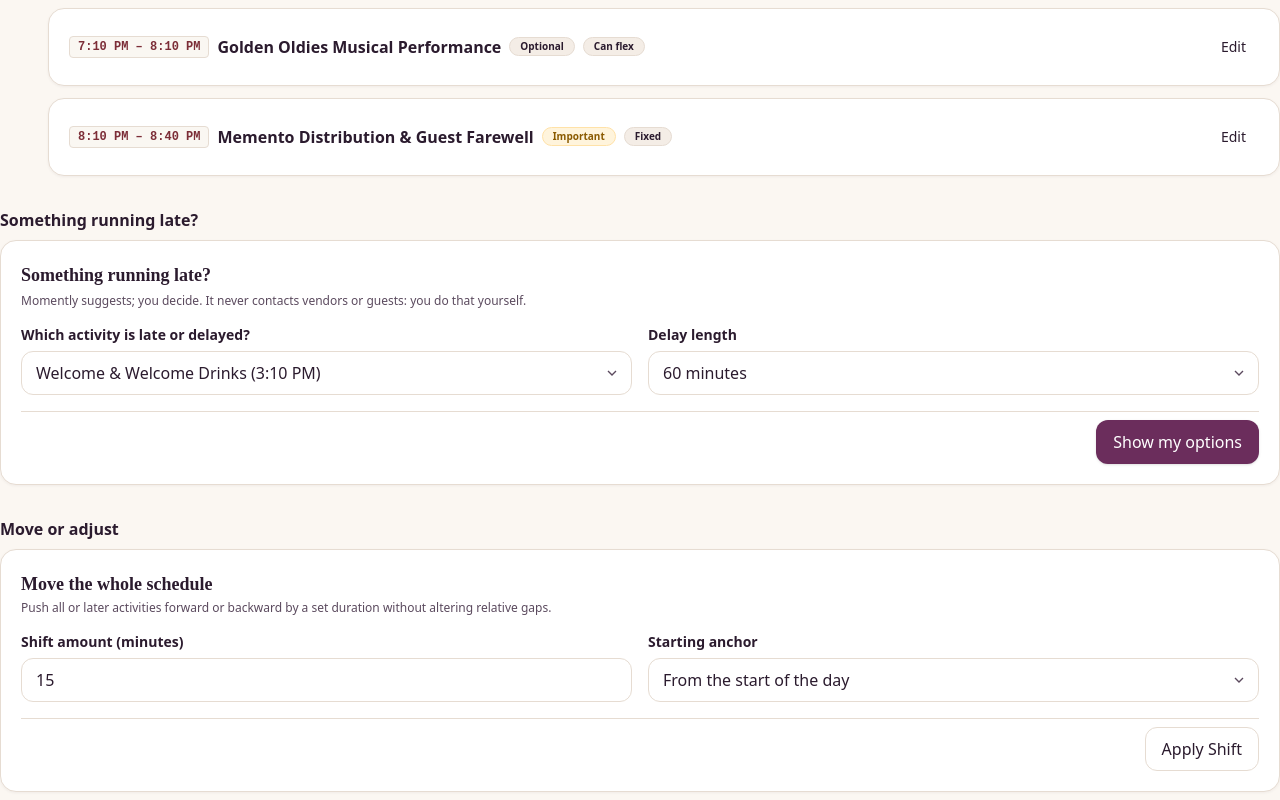
Test: UI: Timeline Page & Interactions (TASK 4) › shifting by +30 moves later slots; overflow shift saves nothing and explains
The width and height of the screenshot is (1280, 800).
(page scrolled)
Note: Set shift amount to +30
Replace the text in the number field named "Shift amount in minutes" with "30" at (326, 680), box [21,658,632,702]
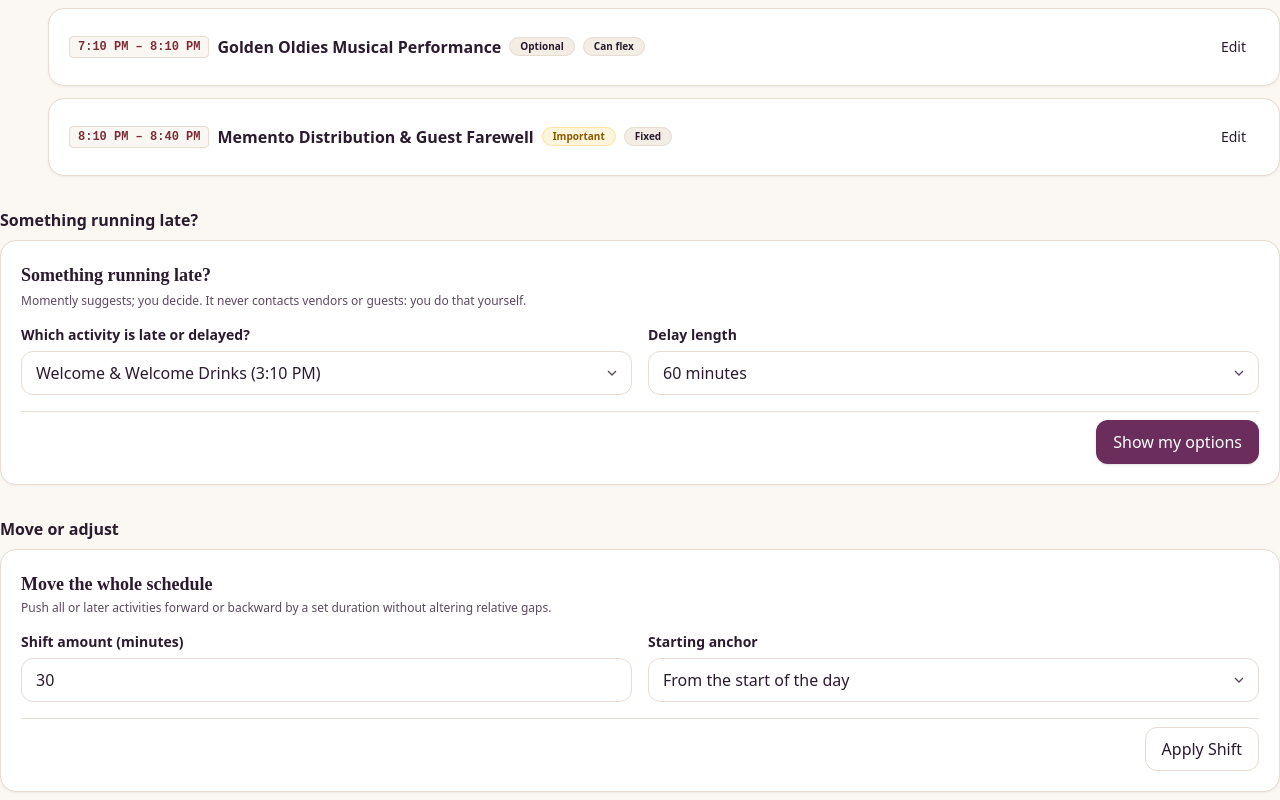
Note: Apply shift
Click the button "Apply Shift".
click(1202, 749)  # box [1145,727,1259,771]
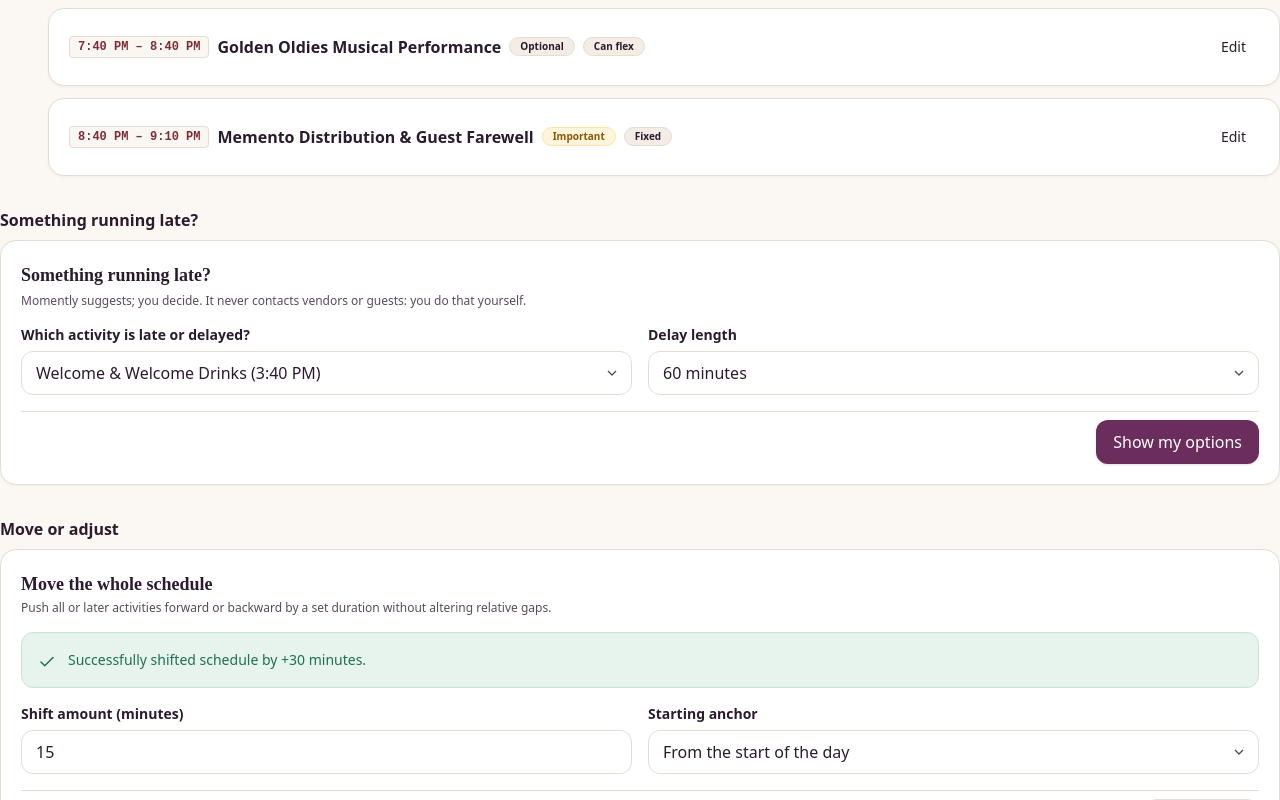
Note: Overflow shift: set to 240m on a late schedule
Replace the text in the number field named "Shift amount in minutes" with "240" at (326, 752), box [21,730,632,774]
(page scrolled)
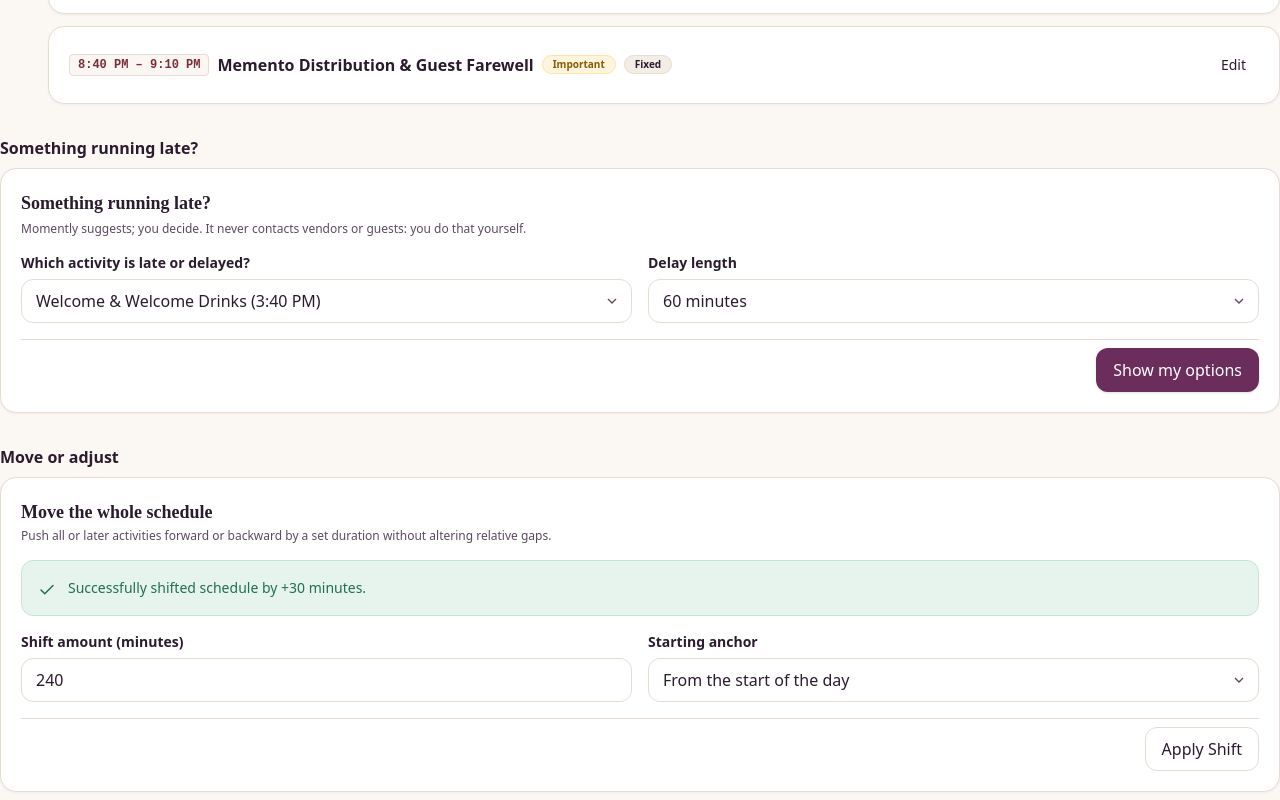
Click the button "Apply Shift".
click(1202, 749)  # box [1145,727,1259,771]
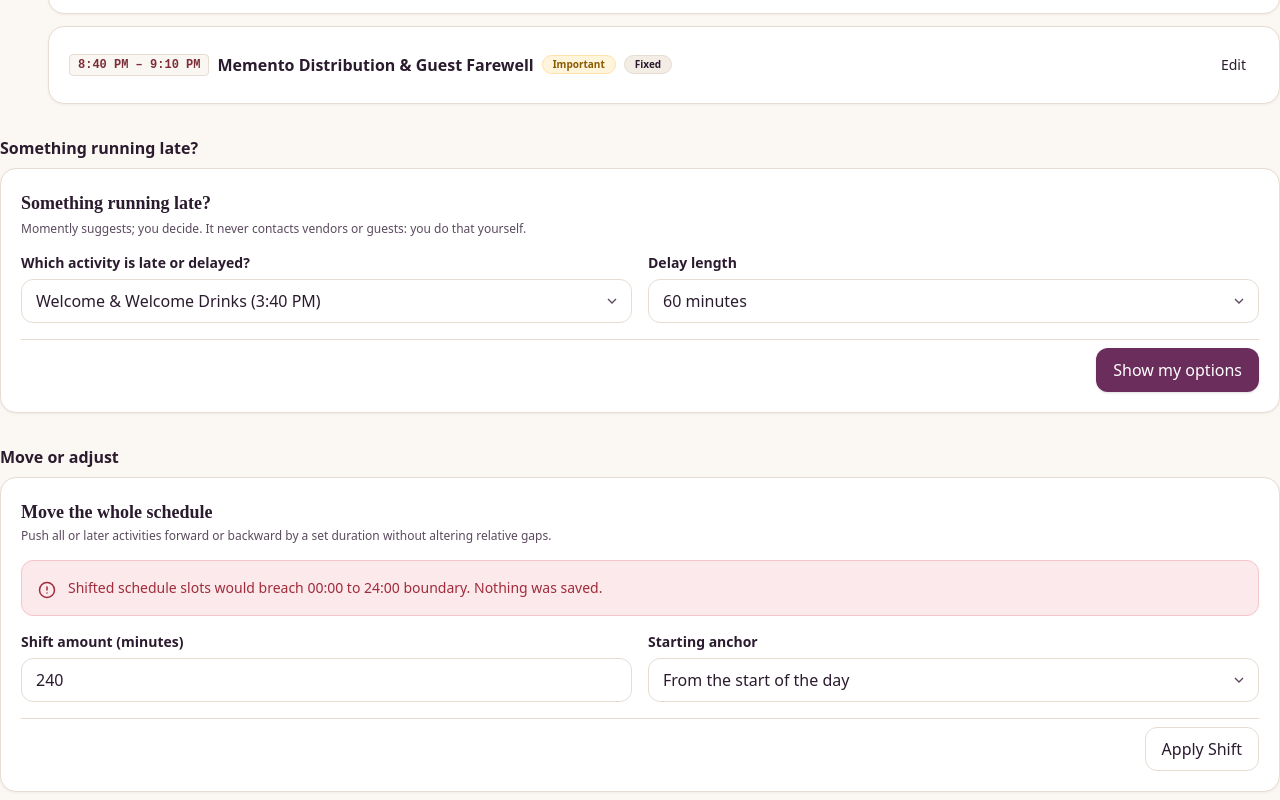
Expected: the text "Shifted schedule slots would breach 00:00 to 24:00 boundary" is shown, [68,578,602,597]
